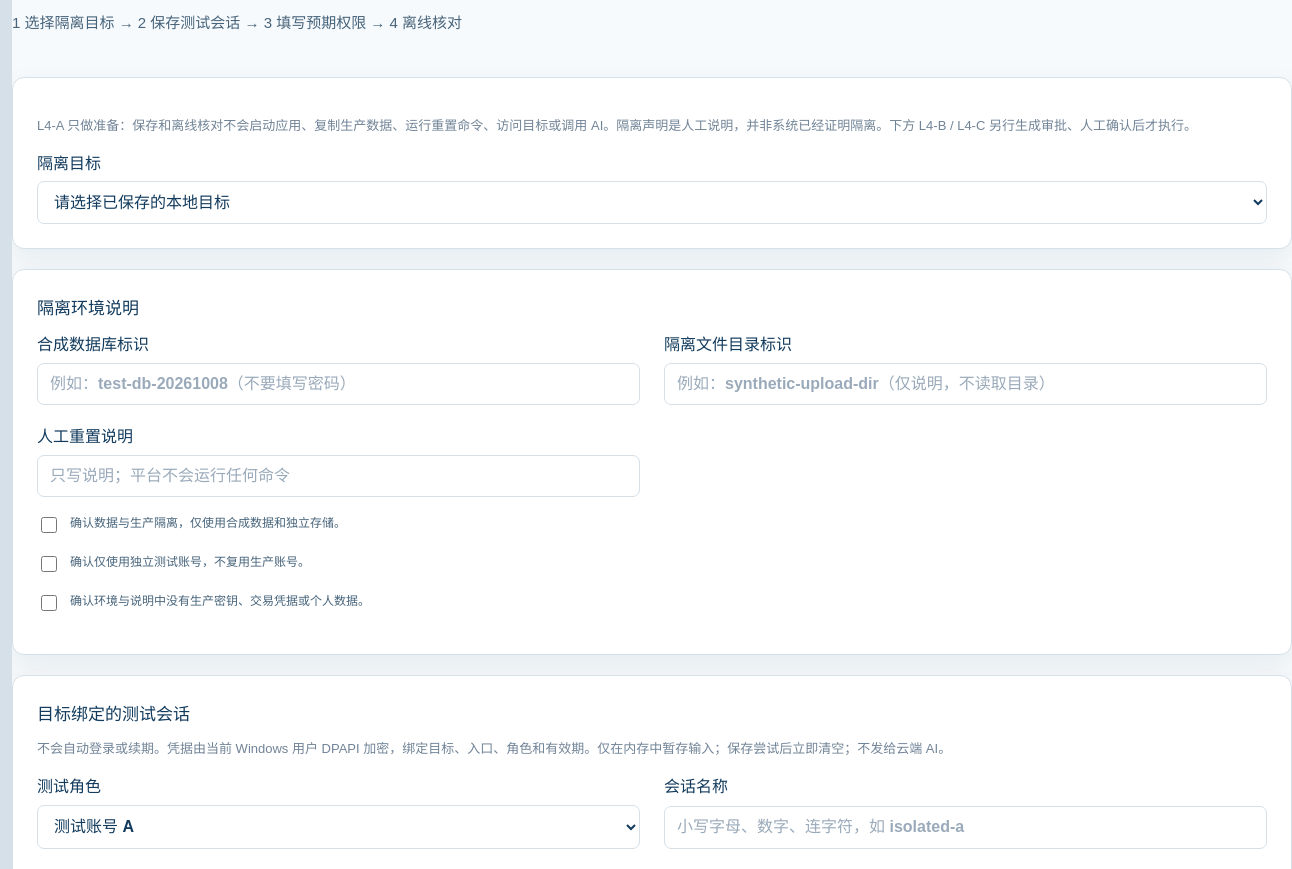
Test: changing target clears transient credentials and isolated declarations
Select "隔离合成目标 · http://127.0.0.1:8765" in the dropdown labelled "隔离目标" at (652, 202), box x1=37 y1=181 x2=1267 y2=224
(page scrolled)
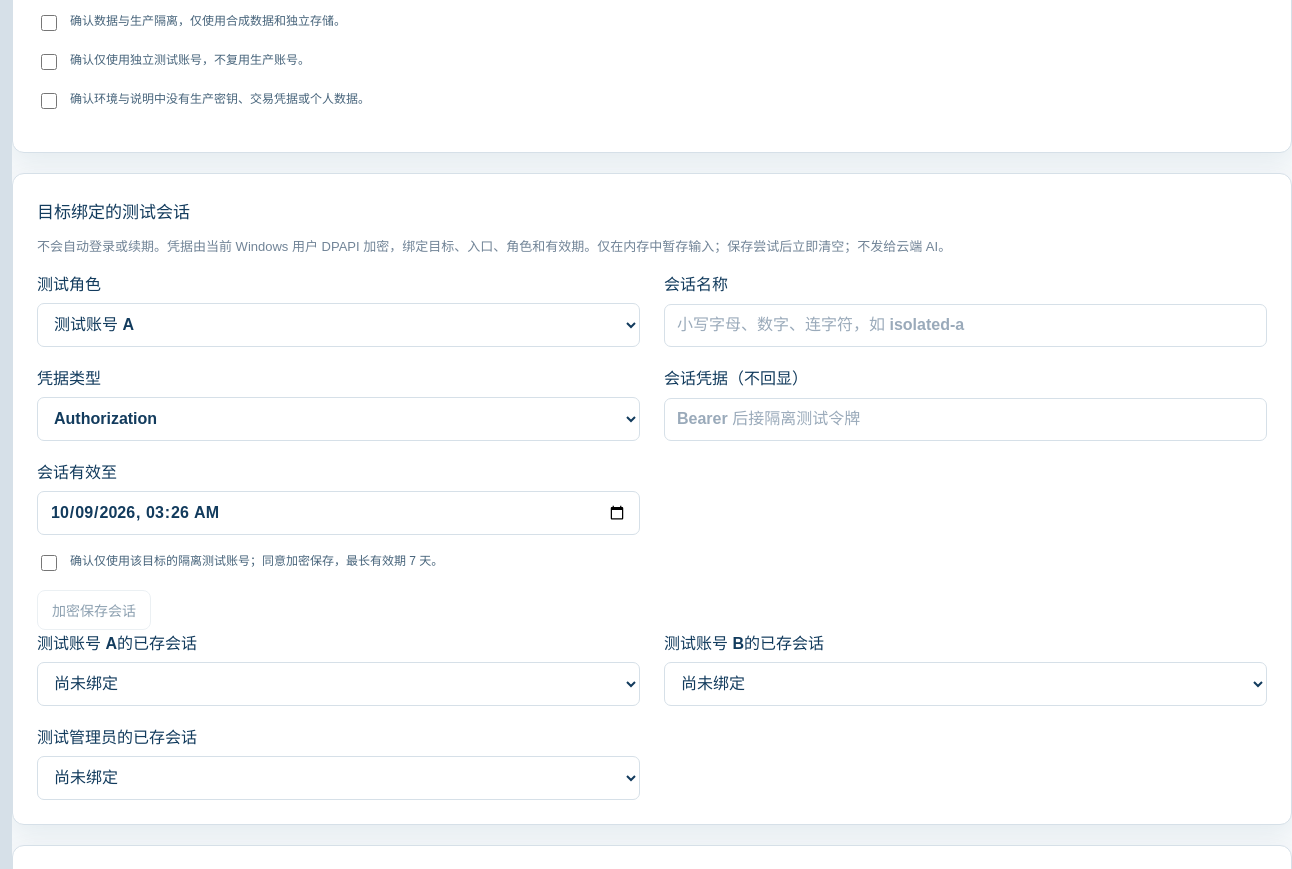
Type "synthetic-token" into the password field labelled "会话凭据（不回显）" at (966, 419), box x1=664 y1=398 x2=1267 y2=441
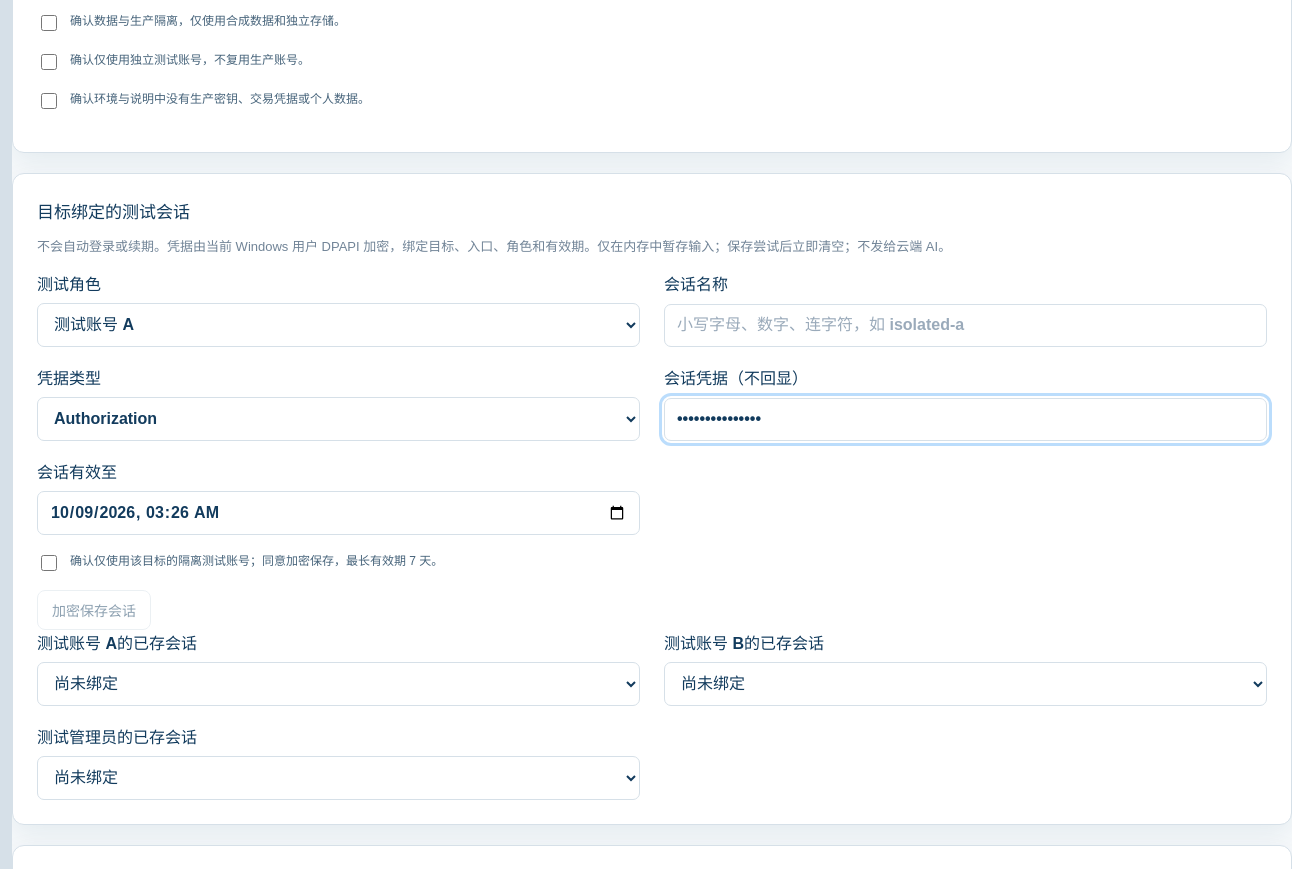
Click the checkbox labelled "确认数据与生产隔离，仅使用合成数据和独立存储。" at (49, 23), box x1=41 y1=15 x2=57 y2=31
(page scrolled)
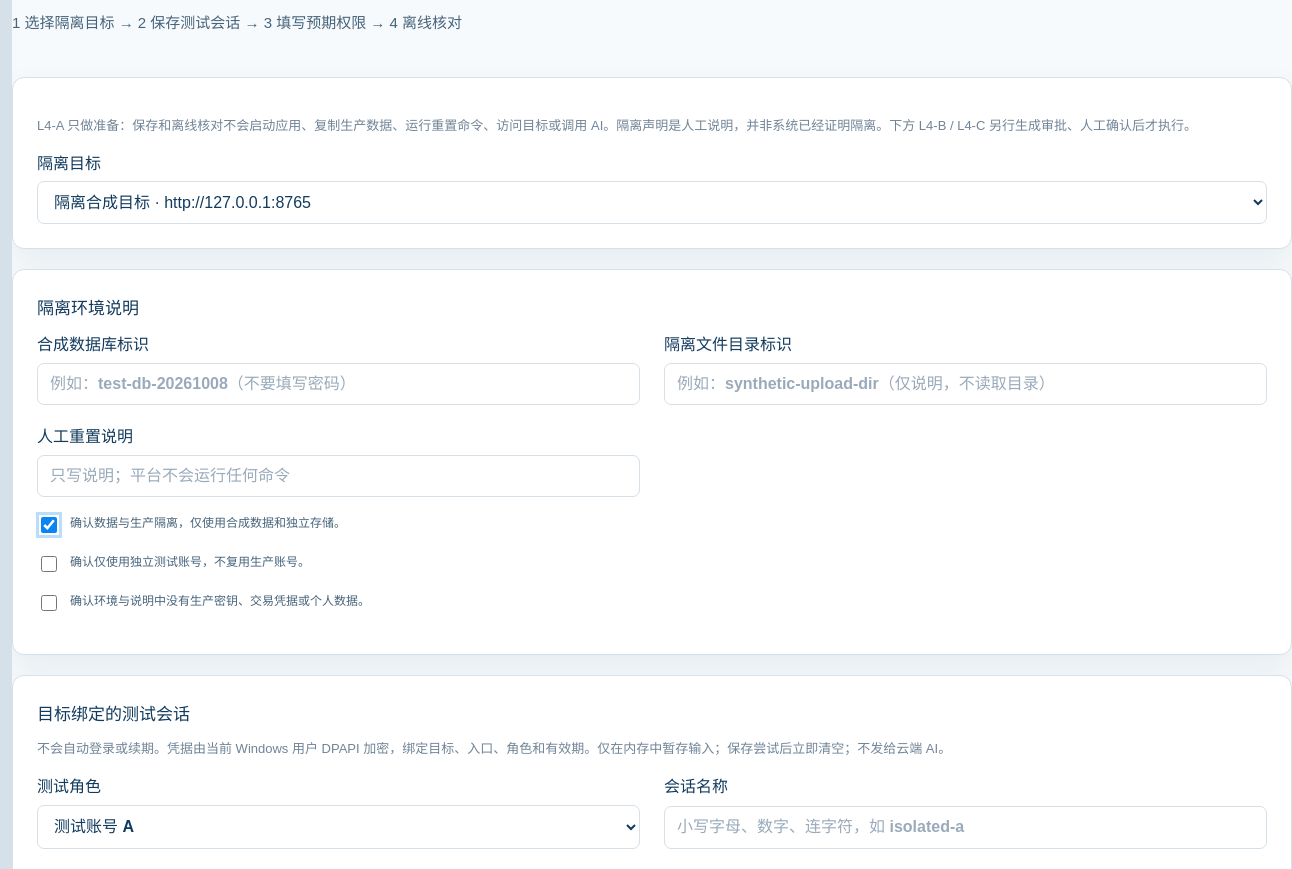
Select "请选择已保存的本地目标" in the dropdown labelled "隔离目标" at (652, 202), box x1=37 y1=181 x2=1267 y2=224
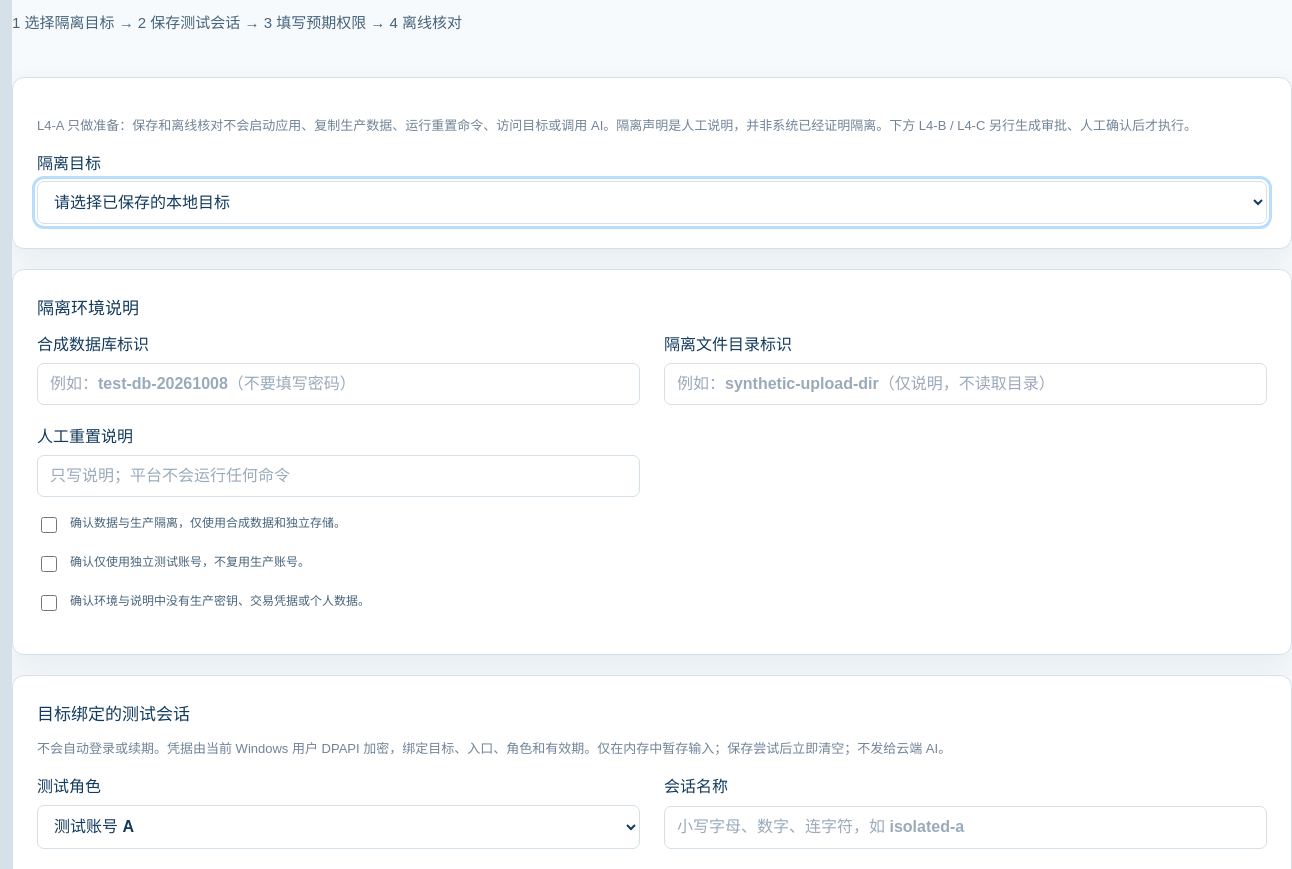
Expected: the checkbox labelled "确认数据与生产隔离，仅使用合成数据和独立存储。" is not checked, x1=41 y1=517 x2=57 y2=533
